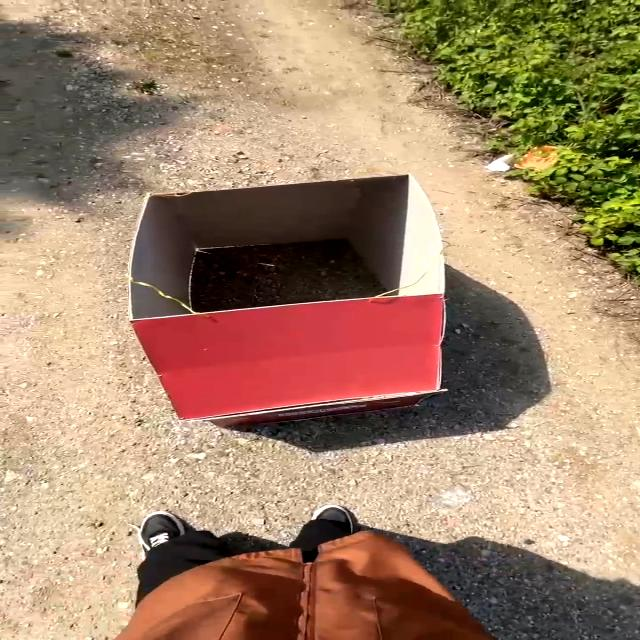red_car: (42, 146, 519, 446)
